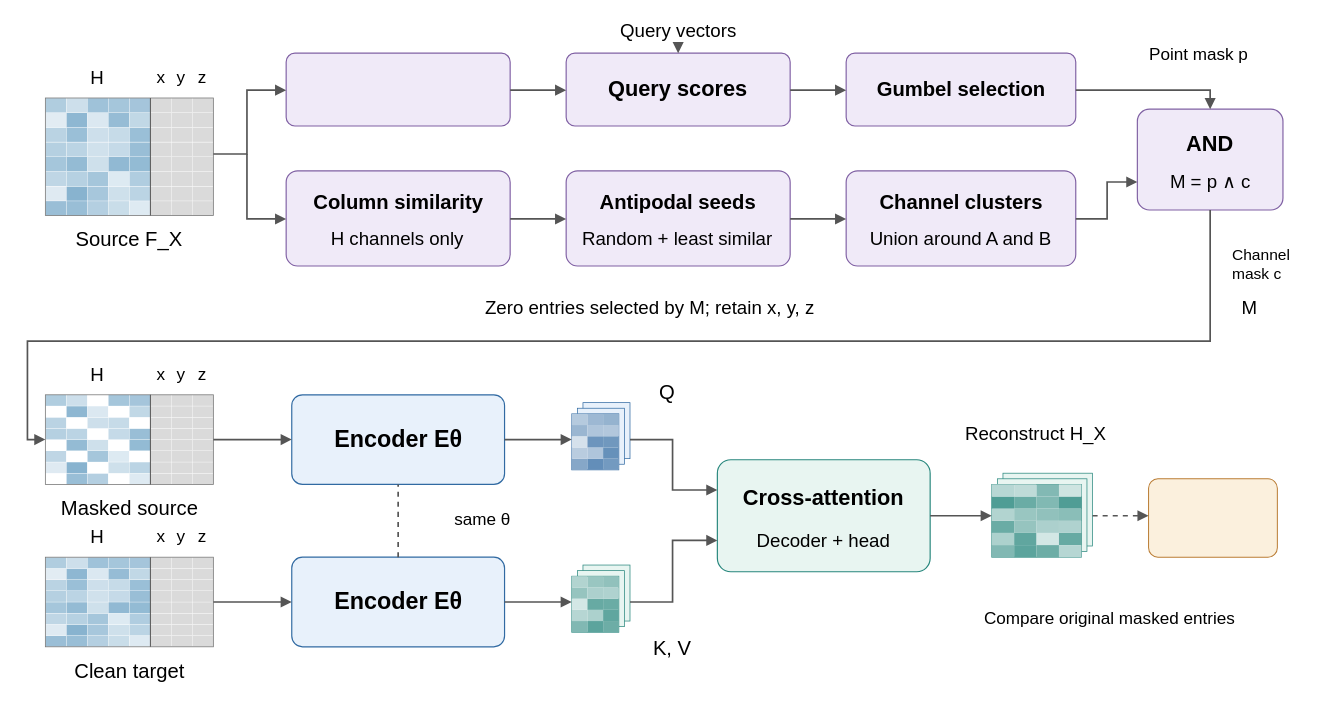
Some shapes in this 1325 by 703 pixel diagram are drawn without their labels. The centre of each missing label's shape, as x and y in pixels:
"L_rec" goes at point (1212, 517).
"Light DGCNN" goes at point (397, 89).
